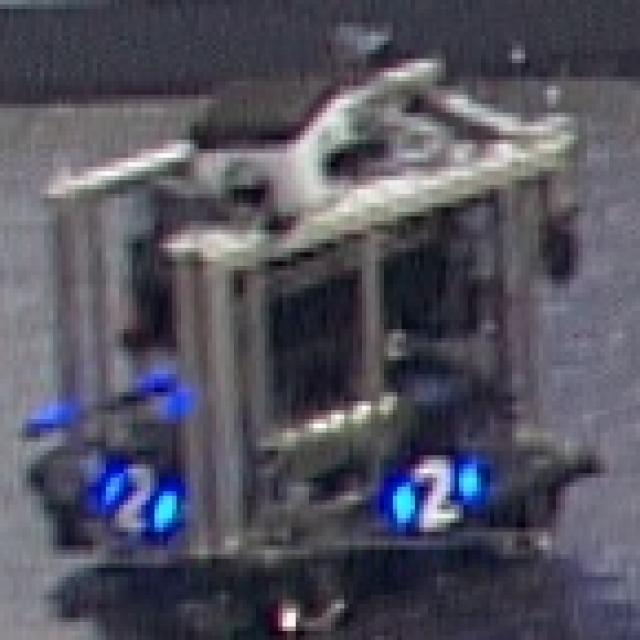B2: (371, 442, 481, 536), (101, 455, 186, 541)
